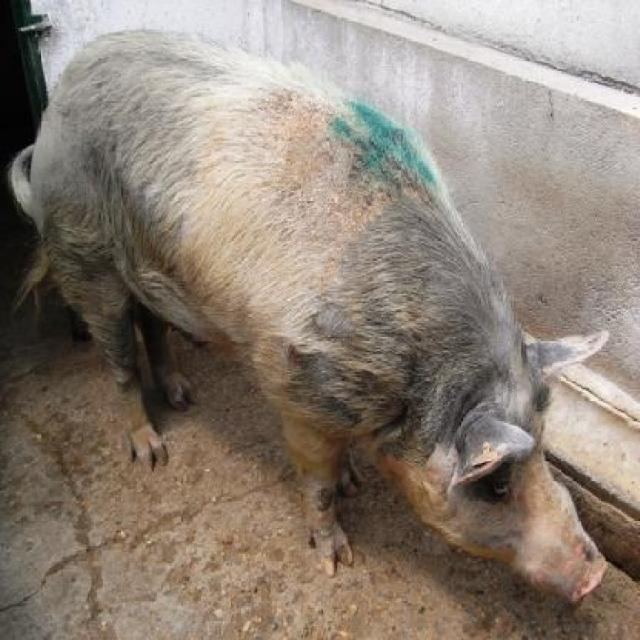pig: (5, 28, 606, 607)
